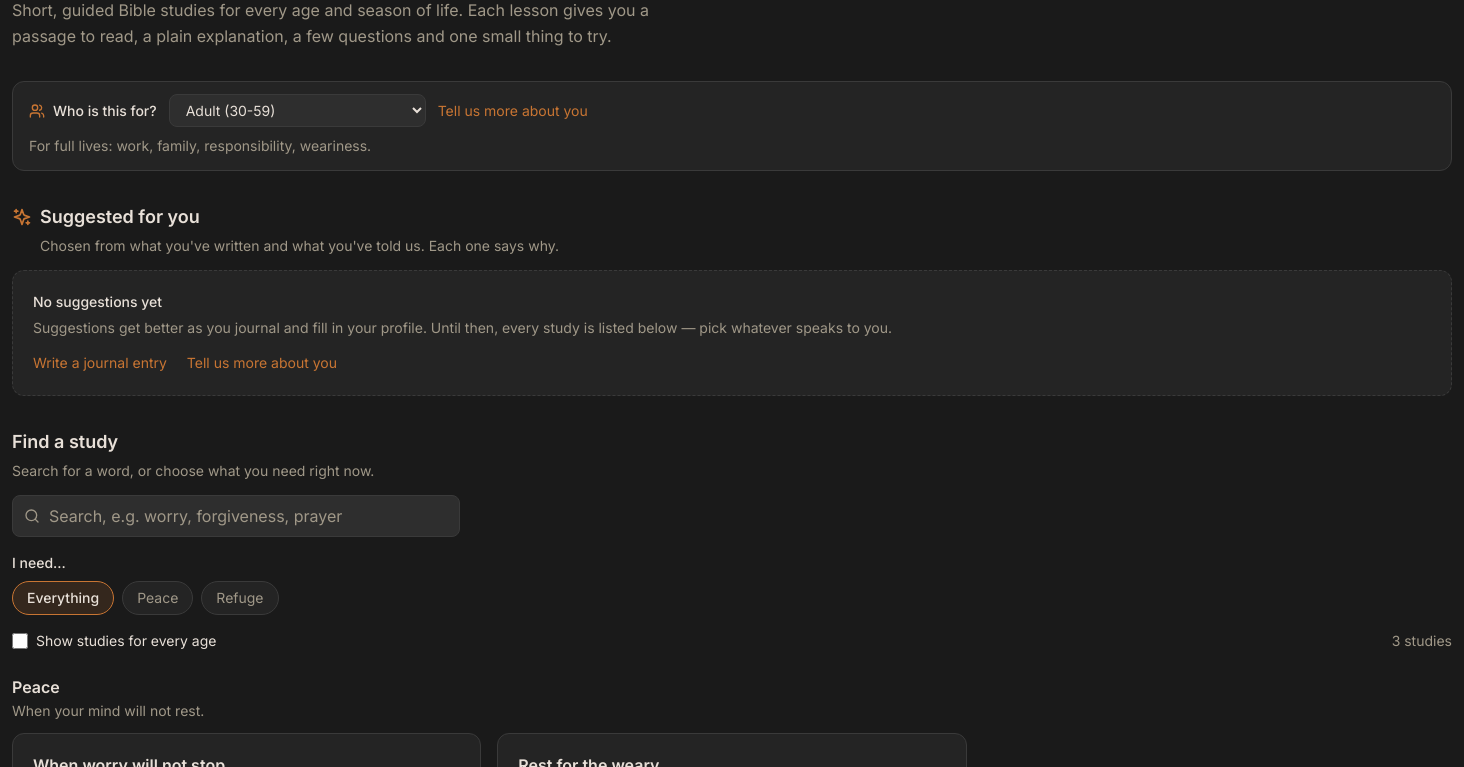
Test: StudyHubPage › filters by category, by search, and by age
Expected: the text "3 studies" is shown, x1=1392 y1=630 x2=1452 y2=650
Note: "I need…" chips.
Step 1. Click the button "Refuge" → x=240, y=598, box x1=201 y1=580 x2=279 y2=614
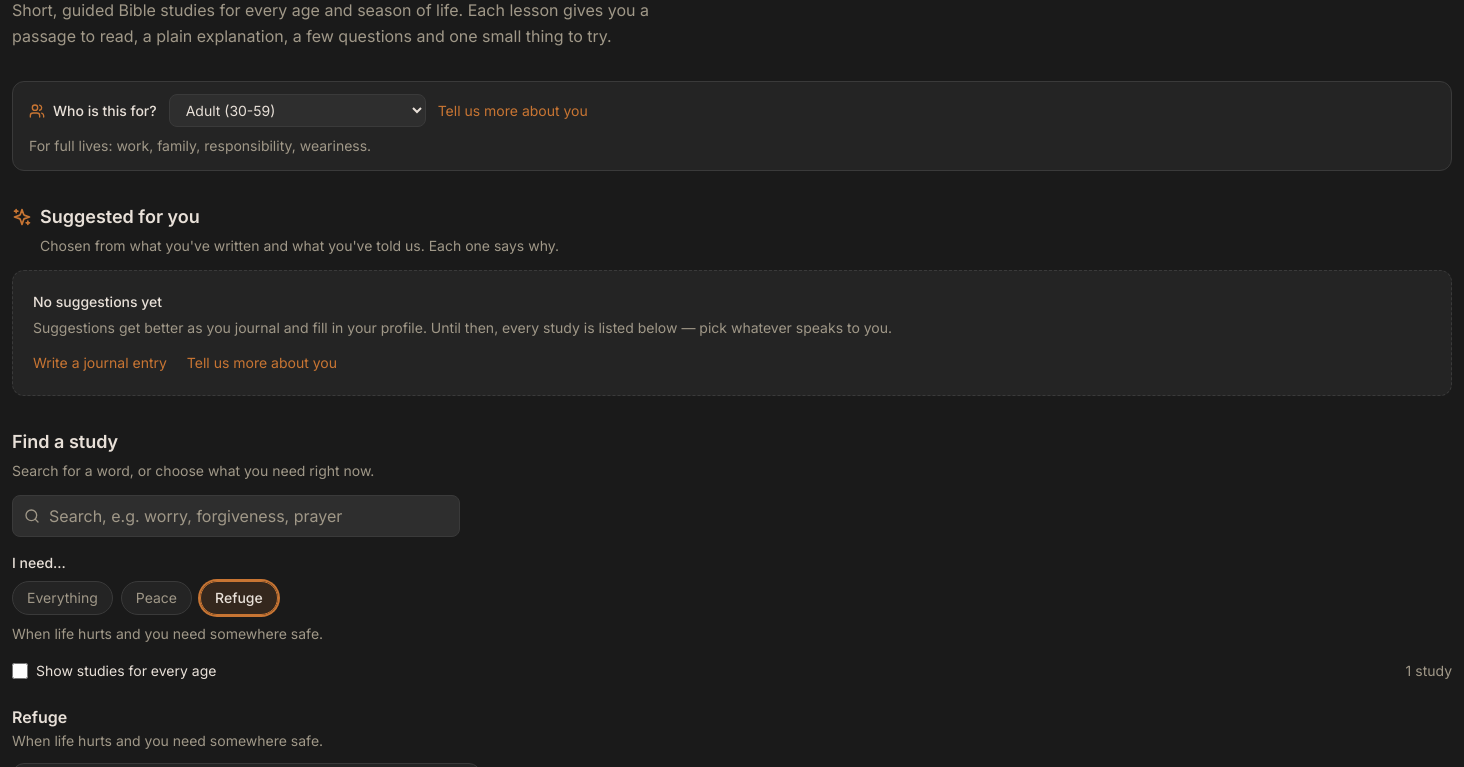
Now the text "When life hurts and you need somewhere safe." below "I need…" is shown, box x1=12 y1=624 x2=323 y2=642
Now the text "1 study" is shown, box x1=1406 y1=661 x2=1452 y2=681
Step 2. Click the button "Everything" → x=62, y=598, box x1=12 y1=580 x2=113 y2=614
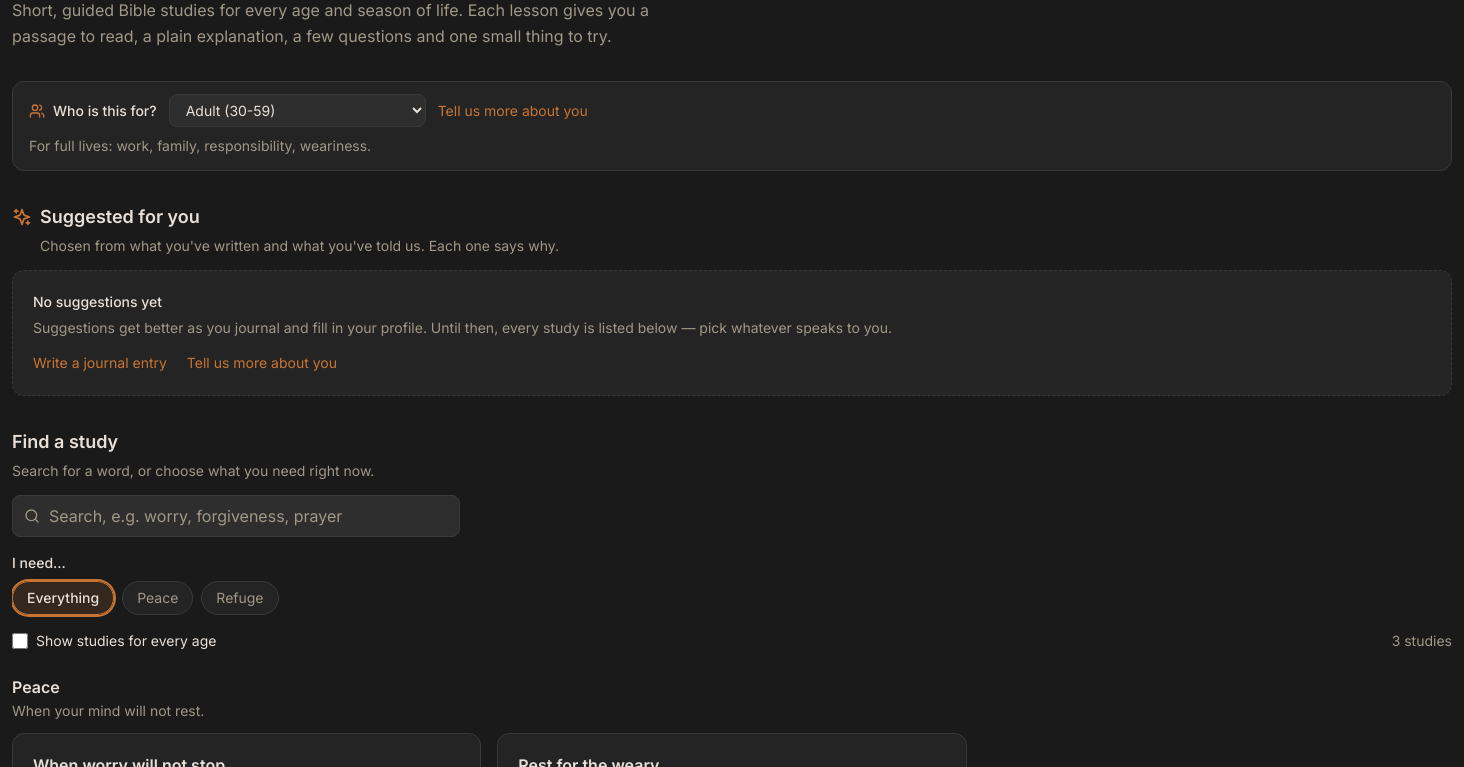
Note: Search looks at titles and summaries.
Step 3. Type "sleep" into the search field named "Search studies" → x=236, y=516, box x1=12 y1=494 x2=460 y2=536
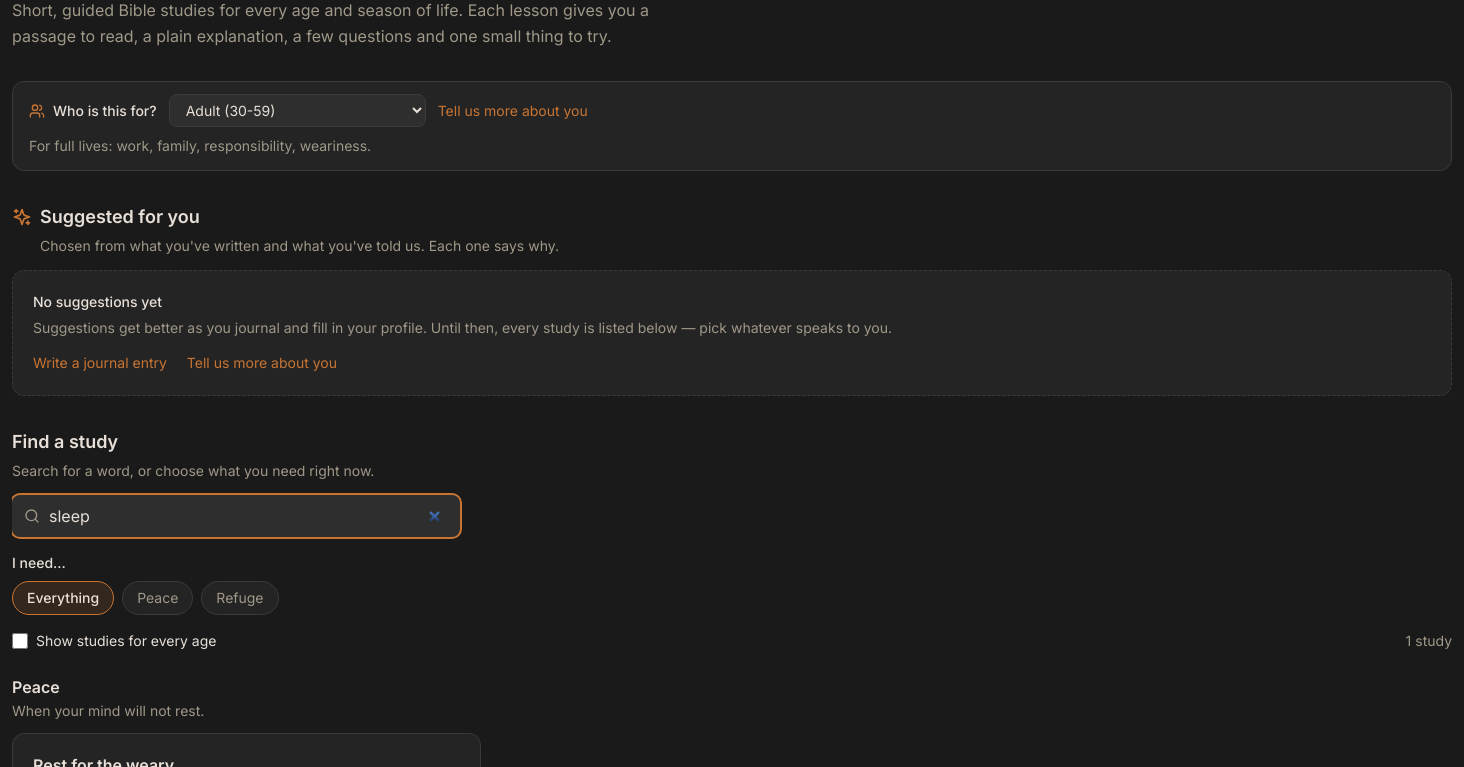
Step 4. Replace the text in the search field named "Search studies" with "zzz" → x=236, y=516, box x1=12 y1=494 x2=460 y2=536
(page scrolled)
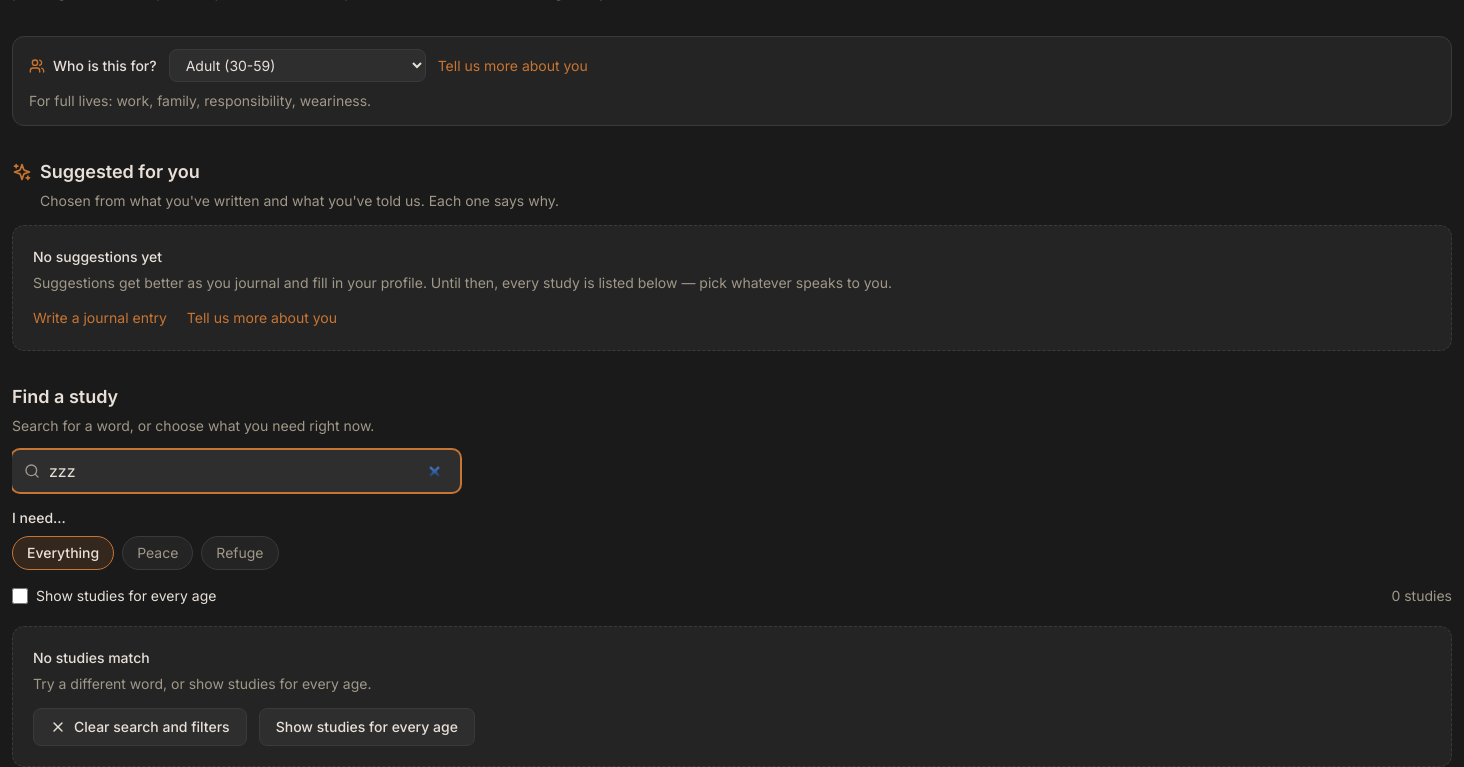
Now the text "No studies match" is shown, box x1=33 y1=648 x2=150 y2=666
Step 5. Click the button "Clear search and filters" → x=140, y=727, box x1=33 y1=708 x2=247 y2=746
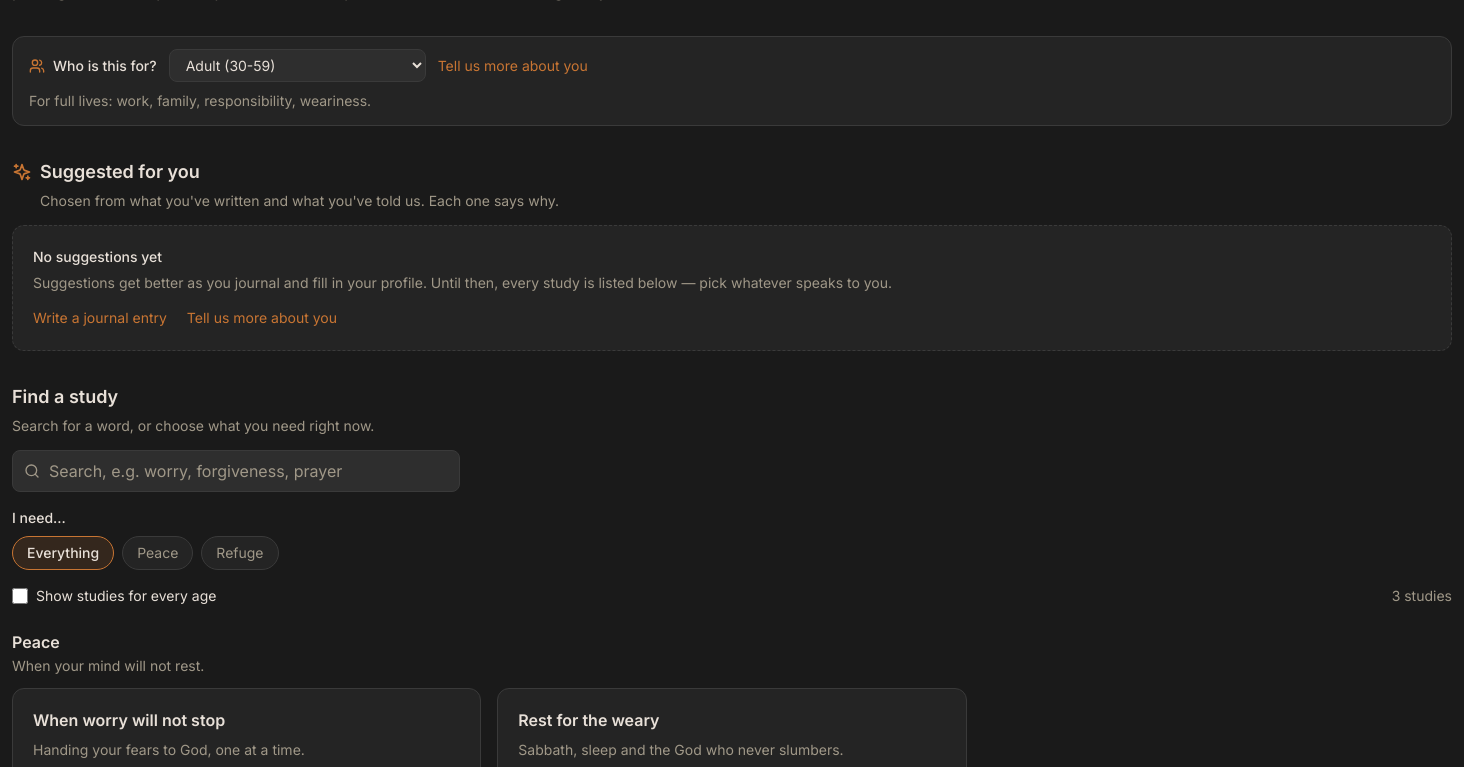
Now the text "3 studies" is shown, box x1=1392 y1=586 x2=1452 y2=606
Note: Every age.
Step 6. Click the checkbox labelled "Show studies for every age" → x=20, y=596, box x1=12 y1=588 x2=28 y2=604
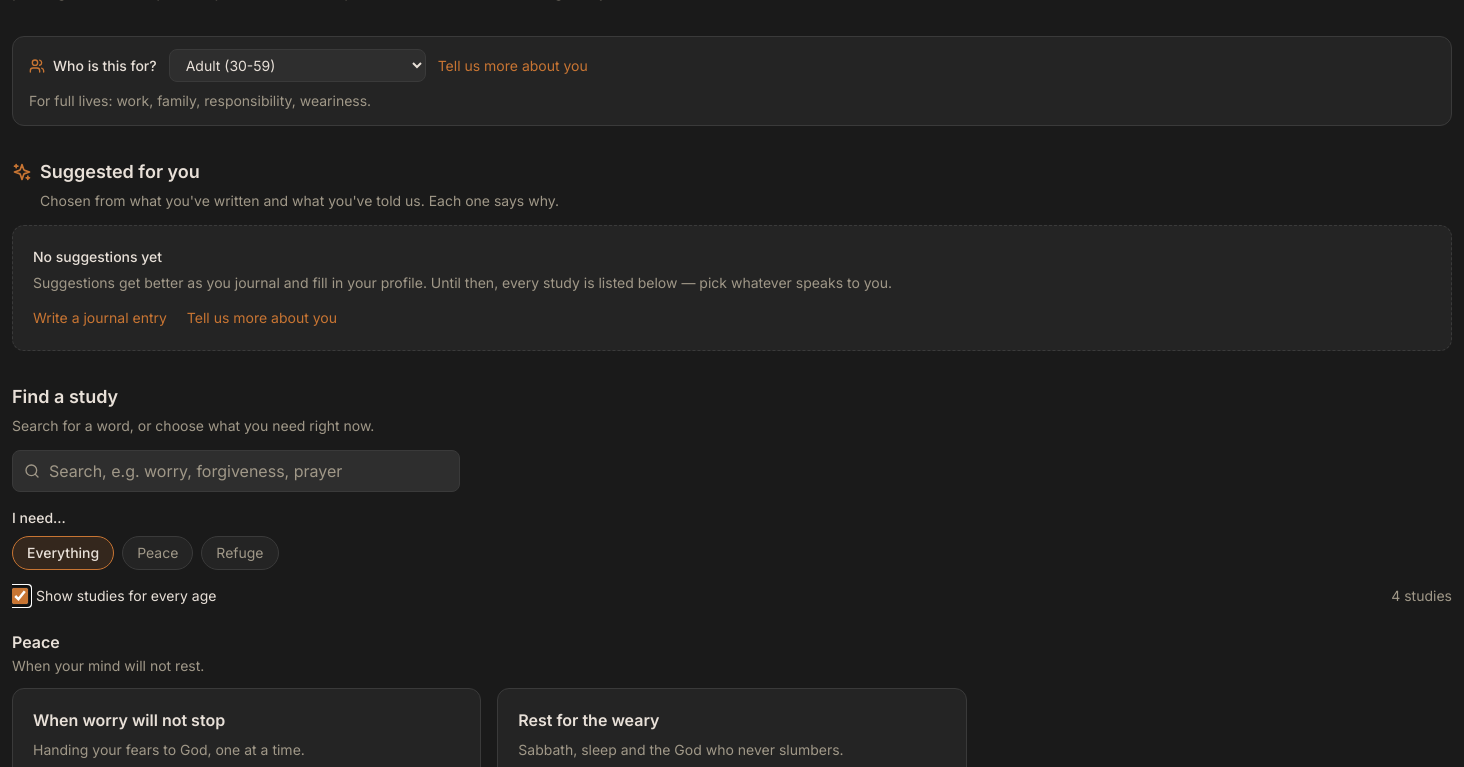
Now the text "4 studies" is shown, box x1=1391 y1=586 x2=1452 y2=606
